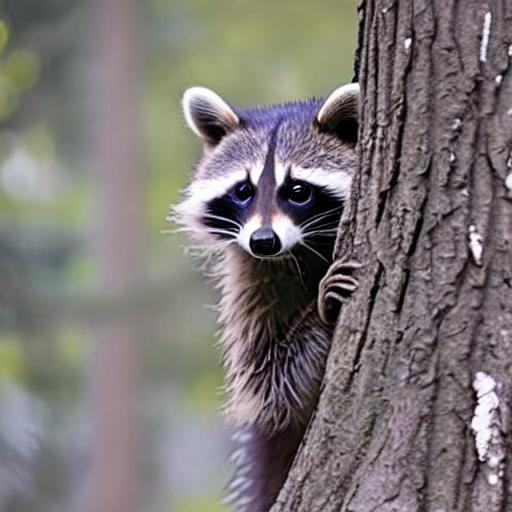raccoon: (162, 72, 362, 512)
